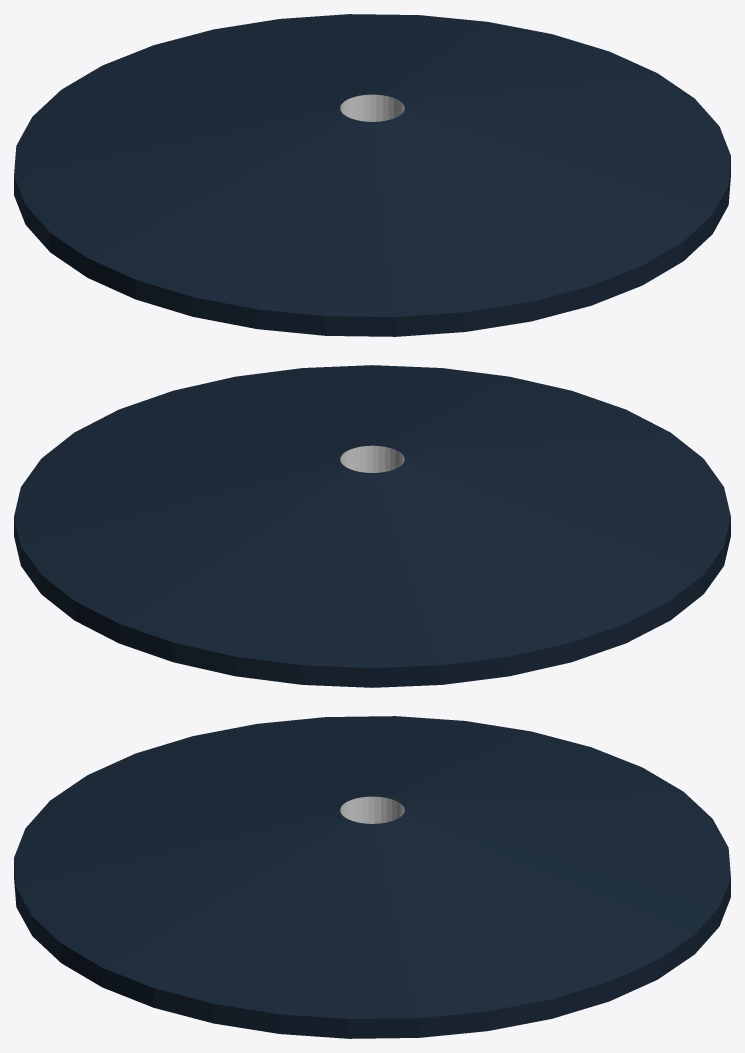
Rendered from Core_3_LODGroup.fbx.
The picture shows the model from 3 angles, top to bottom: view 1: azimuth 30°, elevation 25°; view 2: azimuth 150°, elevation 25°; view 3: azimuth 270°, elevation 25°; orthographic projection.
Parts seen in each view (by area): view 1: Core 3_LOD0; view 2: Core 3_LOD0; view 3: Core 3_LOD0.
Part boxes in pixels (x1,y1,x2,y2): Core 3_LOD0: (14,14,730,336); Core 3_LOD0: (14,365,730,687); Core 3_LOD0: (14,716,730,1038).
Size of what is drawn, in the model's own units: 689 by 186 by 689.
